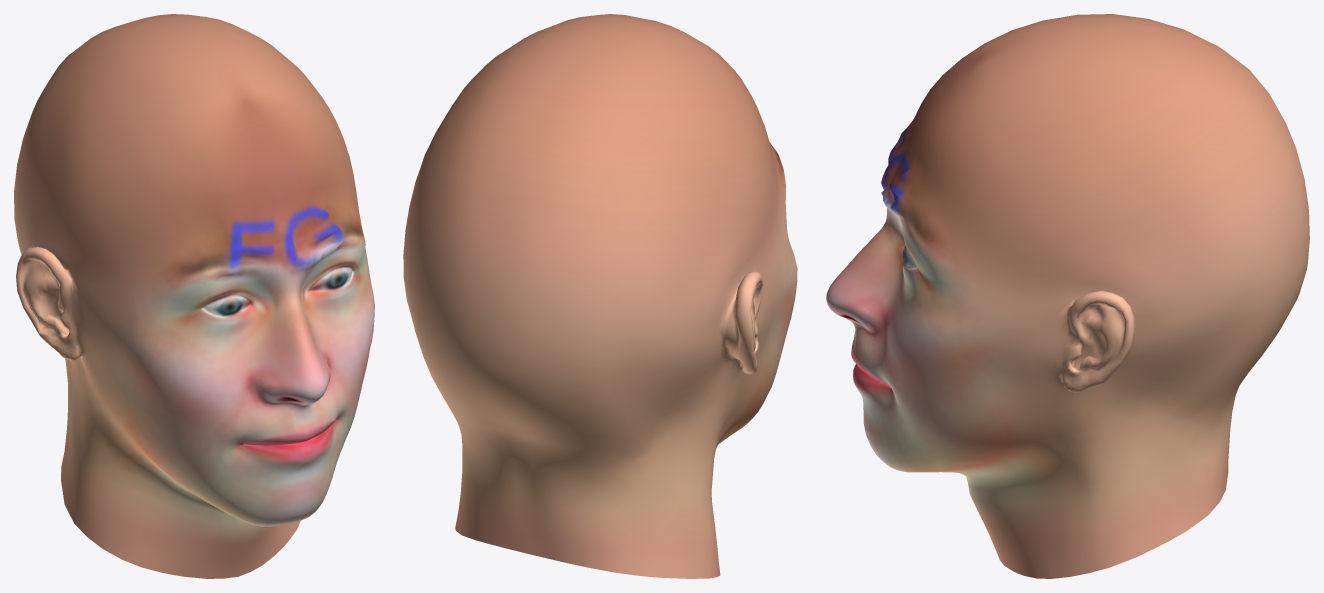
Rendered from avg_anyrace_male_11.obj.
3 renders of one model, left to right at view 1: azimuth 30°, elevation 25°; view 2: azimuth 150°, elevation 25°; view 3: azimuth 270°, elevation 25°, orthographic. The views are drawn at different scales.
Visible parts, largest first — view 1: HeadHires; view 2: HeadHires; view 3: HeadHires.
Boxes of the visible parts, box(x1,y1,x2,y2) form: HeadHires: box(14, 14, 374, 578); HeadHires: box(403, 14, 797, 578); HeadHires: box(826, 14, 1309, 578).
Bounding box in the file's own units: 186 × 283 × 236.
3 materials, 3 textured.
